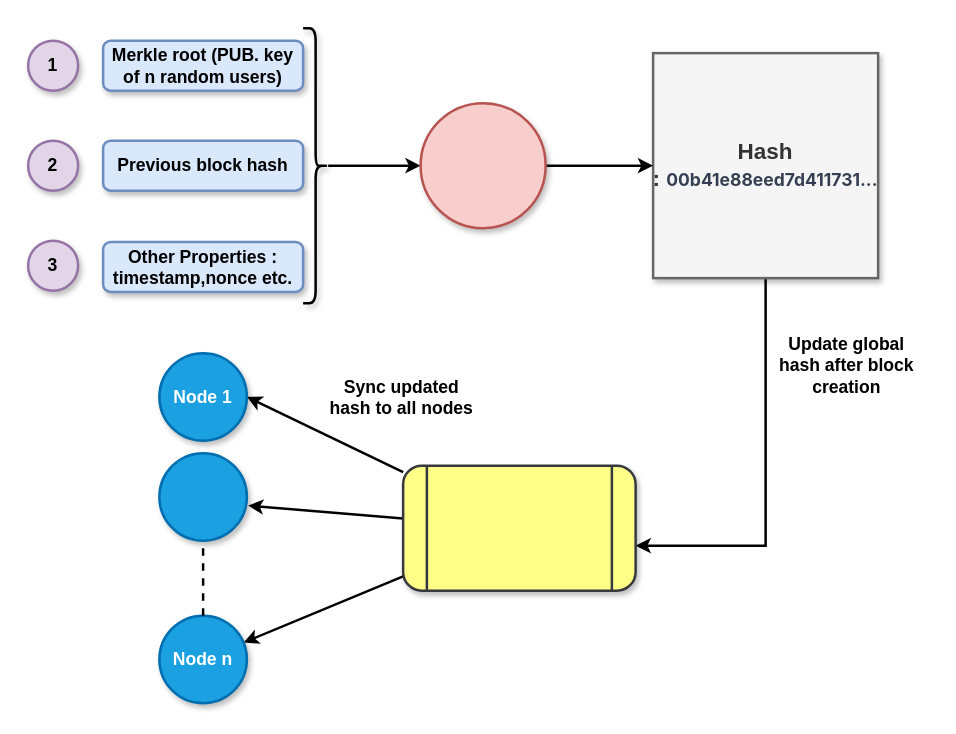
Image size: 956x734. Some labels were removed from this diagram. Each missing label, with the centre of its shape:
"Global merkle tree root hash" belongs at [520,529].
"Node 2" belongs at [203,498].
"SHA-256 Hashing Algorithm" belongs at [484,167].
